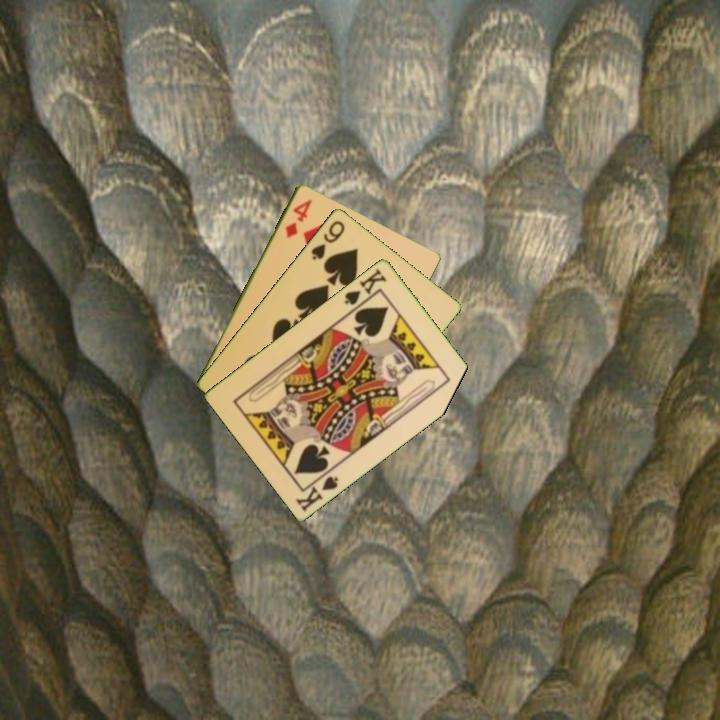4d: (281, 195, 315, 241)
9s: (307, 216, 348, 263)
Ks: (340, 264, 390, 313), (292, 465, 342, 514)
